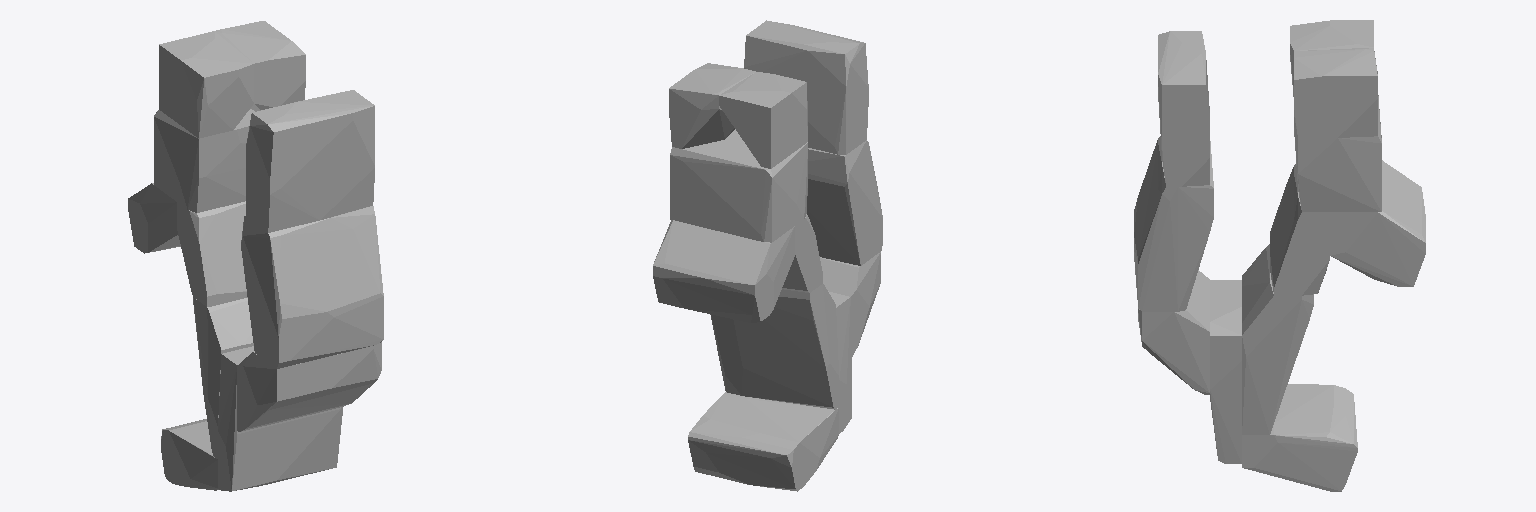
robot.urdf — root:
<robot name="root">
  <link name="link_endstop_holder_convex_piece_0">
    <inertial>
      <origin rpy="0 0 0" xyz="0 0 0"/>
      <mass value="-4.37E-06"/>
      <inertia ixx="-3.35E-09" ixy="1.06E-11" ixz="1.07E-11" iyy="-1.38E-09" iyz="-1.56E-09" izz="-2.54E-09"/>
    </inertial>
    <visual>
      <origin rpy="0 0 0" xyz="0 0 0"/>
      <geometry>
        <mesh filename="endstop_holder_convex_piece_0.obj" scale="1.0000E+00"/>
      </geometry>
      <material name="">
        <color rgba="7.50E-01 7.50E-01 7.50E-01 1"/>
      </material>
    </visual>
    <collision>
      <origin rpy="0 0 0" xyz="0 0 0"/>
      <geometry>
        <mesh filename="endstop_holder_convex_piece_0.obj" scale="1.0000E+00"/>
      </geometry>
    </collision>
  </link>
  <link name="link_endstop_holder_convex_piece_1">
    <inertial>
      <origin rpy="0 0 0" xyz="0 0 0"/>
      <mass value="-4.20E-06"/>
      <inertia ixx="-4.13E-09" ixy="-4.13E-11" ixz="-8.64E-11" iyy="-3.88E-09" iyz="-1.47E-09" izz="-7.99E-10"/>
    </inertial>
    <visual>
      <origin rpy="0 0 0" xyz="0 0 0"/>
      <geometry>
        <mesh filename="endstop_holder_convex_piece_1.obj" scale="1.0000E+00"/>
      </geometry>
      <material name="">
        <color rgba="7.50E-01 7.50E-01 7.50E-01 1"/>
      </material>
    </visual>
    <collision>
      <origin rpy="0 0 0" xyz="0 0 0"/>
      <geometry>
        <mesh filename="endstop_holder_convex_piece_1.obj" scale="1.0000E+00"/>
      </geometry>
    </collision>
  </link>
  <joint name="link_endstop_holder_convex_piece_1_joint" type="fixed">
    <origin rpy="0 0 0" xyz="0 0 0"/>
    <parent link="link_endstop_holder_convex_piece_0"/>
    <child link="link_endstop_holder_convex_piece_1"/>
  </joint>
  <link name="link_endstop_holder_convex_piece_2">
    <inertial>
      <origin rpy="0 0 0" xyz="0 0 0"/>
      <mass value="-7.66E-06"/>
      <inertia ixx="-5.49E-09" ixy="1.44E-10" ixz="-6.56E-11" iyy="-1.60E-09" iyz="1.41E-09" izz="-4.89E-09"/>
    </inertial>
    <visual>
      <origin rpy="0 0 0" xyz="0 0 0"/>
      <geometry>
        <mesh filename="endstop_holder_convex_piece_2.obj" scale="1.0000E+00"/>
      </geometry>
      <material name="">
        <color rgba="7.50E-01 7.50E-01 7.50E-01 1"/>
      </material>
    </visual>
    <collision>
      <origin rpy="0 0 0" xyz="0 0 0"/>
      <geometry>
        <mesh filename="endstop_holder_convex_piece_2.obj" scale="1.0000E+00"/>
      </geometry>
    </collision>
  </link>
  <joint name="link_endstop_holder_convex_piece_2_joint" type="fixed">
    <origin rpy="0 0 0" xyz="0 0 0"/>
    <parent link="link_endstop_holder_convex_piece_1"/>
    <child link="link_endstop_holder_convex_piece_2"/>
  </joint>
  <link name="link_endstop_holder_convex_piece_3">
    <inertial>
      <origin rpy="0 0 0" xyz="0 0 0"/>
      <mass value="-5.13E-06"/>
      <inertia ixx="-9.66E-09" ixy="1.53E-10" ixz="-2.89E-10" iyy="-7.70E-09" iyz="4.03E-09" izz="-2.63E-09"/>
    </inertial>
    <visual>
      <origin rpy="0 0 0" xyz="0 0 0"/>
      <geometry>
        <mesh filename="endstop_holder_convex_piece_3.obj" scale="1.0000E+00"/>
      </geometry>
      <material name="">
        <color rgba="7.50E-01 7.50E-01 7.50E-01 1"/>
      </material>
    </visual>
    <collision>
      <origin rpy="0 0 0" xyz="0 0 0"/>
      <geometry>
        <mesh filename="endstop_holder_convex_piece_3.obj" scale="1.0000E+00"/>
      </geometry>
    </collision>
  </link>
  <joint name="link_endstop_holder_convex_piece_3_joint" type="fixed">
    <origin rpy="0 0 0" xyz="0 0 0"/>
    <parent link="link_endstop_holder_convex_piece_2"/>
    <child link="link_endstop_holder_convex_piece_3"/>
  </joint>
  <link name="link_endstop_holder_convex_piece_4">
    <inertial>
      <origin rpy="0 0 0" xyz="0 0 0"/>
      <mass value="-5.01E-06"/>
      <inertia ixx="-9.98E-09" ixy="2.85E-11" ixz="-3.02E-10" iyy="-1.01E-08" iyz="9.43E-10" izz="-5.62E-10"/>
    </inertial>
    <visual>
      <origin rpy="0 0 0" xyz="0 0 0"/>
      <geometry>
        <mesh filename="endstop_holder_convex_piece_4.obj" scale="1.0000E+00"/>
      </geometry>
      <material name="">
        <color rgba="7.50E-01 7.50E-01 7.50E-01 1"/>
      </material>
    </visual>
    <collision>
      <origin rpy="0 0 0" xyz="0 0 0"/>
      <geometry>
        <mesh filename="endstop_holder_convex_piece_4.obj" scale="1.0000E+00"/>
      </geometry>
    </collision>
  </link>
  <joint name="link_endstop_holder_convex_piece_4_joint" type="fixed">
    <origin rpy="0 0 0" xyz="0 0 0"/>
    <parent link="link_endstop_holder_convex_piece_3"/>
    <child link="link_endstop_holder_convex_piece_4"/>
  </joint>
  <link name="link_endstop_holder_convex_piece_5">
    <inertial>
      <origin rpy="0 0 0" xyz="0 0 0"/>
      <mass value="-6.08E-06"/>
      <inertia ixx="-2.51E-09" ixy="-3.11E-11" ixz="5.84E-11" iyy="-2.90E-09" iyz="-5.13E-10" izz="-3.74E-10"/>
    </inertial>
    <visual>
      <origin rpy="0 0 0" xyz="0 0 0"/>
      <geometry>
        <mesh filename="endstop_holder_convex_piece_5.obj" scale="1.0000E+00"/>
      </geometry>
      <material name="">
        <color rgba="7.50E-01 7.50E-01 7.50E-01 1"/>
      </material>
    </visual>
    <collision>
      <origin rpy="0 0 0" xyz="0 0 0"/>
      <geometry>
        <mesh filename="endstop_holder_convex_piece_5.obj" scale="1.0000E+00"/>
      </geometry>
    </collision>
  </link>
  <joint name="link_endstop_holder_convex_piece_5_joint" type="fixed">
    <origin rpy="0 0 0" xyz="0 0 0"/>
    <parent link="link_endstop_holder_convex_piece_4"/>
    <child link="link_endstop_holder_convex_piece_5"/>
  </joint>
  <link name="link_endstop_holder_convex_piece_6">
    <inertial>
      <origin rpy="0 0 0" xyz="0 0 0"/>
      <mass value="-3.59E-06"/>
      <inertia ixx="-2.92E-10" ixy="-1.33E-11" ixz="1.41E-11" iyy="-4.58E-10" iyz="-2.22E-10" izz="-2.85E-10"/>
    </inertial>
    <visual>
      <origin rpy="0 0 0" xyz="0 0 0"/>
      <geometry>
        <mesh filename="endstop_holder_convex_piece_6.obj" scale="1.0000E+00"/>
      </geometry>
      <material name="">
        <color rgba="7.50E-01 7.50E-01 7.50E-01 1"/>
      </material>
    </visual>
    <collision>
      <origin rpy="0 0 0" xyz="0 0 0"/>
      <geometry>
        <mesh filename="endstop_holder_convex_piece_6.obj" scale="1.0000E+00"/>
      </geometry>
    </collision>
  </link>
  <joint name="link_endstop_holder_convex_piece_6_joint" type="fixed">
    <origin rpy="0 0 0" xyz="0 0 0"/>
    <parent link="link_endstop_holder_convex_piece_5"/>
    <child link="link_endstop_holder_convex_piece_6"/>
  </joint>
  <link name="link_endstop_holder_convex_piece_7">
    <inertial>
      <origin rpy="0 0 0" xyz="0 0 0"/>
      <mass value="-5.41E-06"/>
      <inertia ixx="-3.04E-09" ixy="3.98E-11" ixz="2.57E-11" iyy="-8.10E-10" iyz="-1.07E-09" izz="-2.93E-09"/>
    </inertial>
    <visual>
      <origin rpy="0 0 0" xyz="0 0 0"/>
      <geometry>
        <mesh filename="endstop_holder_convex_piece_7.obj" scale="1.0000E+00"/>
      </geometry>
      <material name="">
        <color rgba="7.50E-01 7.50E-01 7.50E-01 1"/>
      </material>
    </visual>
    <collision>
      <origin rpy="0 0 0" xyz="0 0 0"/>
      <geometry>
        <mesh filename="endstop_holder_convex_piece_7.obj" scale="1.0000E+00"/>
      </geometry>
    </collision>
  </link>
  <joint name="link_endstop_holder_convex_piece_7_joint" type="fixed">
    <origin rpy="0 0 0" xyz="0 0 0"/>
    <parent link="link_endstop_holder_convex_piece_6"/>
    <child link="link_endstop_holder_convex_piece_7"/>
  </joint>
  <link name="link_endstop_holder_convex_piece_8">
    <inertial>
      <origin rpy="0 0 0" xyz="0 0 0"/>
      <mass value="-6.67E-06"/>
      <inertia ixx="-6.12E-09" ixy="-2.31E-11" ixz="-1.67E-11" iyy="-5.35E-09" iyz="-2.46E-09" izz="-1.64E-09"/>
    </inertial>
    <visual>
      <origin rpy="0 0 0" xyz="0 0 0"/>
      <geometry>
        <mesh filename="endstop_holder_convex_piece_8.obj" scale="1.0000E+00"/>
      </geometry>
      <material name="">
        <color rgba="7.50E-01 7.50E-01 7.50E-01 1"/>
      </material>
    </visual>
    <collision>
      <origin rpy="0 0 0" xyz="0 0 0"/>
      <geometry>
        <mesh filename="endstop_holder_convex_piece_8.obj" scale="1.0000E+00"/>
      </geometry>
    </collision>
  </link>
  <joint name="link_endstop_holder_convex_piece_8_joint" type="fixed">
    <origin rpy="0 0 0" xyz="0 0 0"/>
    <parent link="link_endstop_holder_convex_piece_7"/>
    <child link="link_endstop_holder_convex_piece_8"/>
  </joint>
  <link name="link_endstop_holder_convex_piece_9">
    <inertial>
      <origin rpy="0 0 0" xyz="0 0 0"/>
      <mass value="-2.42E-06"/>
      <inertia ixx="-5.23E-09" ixy="1.86E-10" ixz="7.21E-10" iyy="-5.05E-09" iyz="-1.30E-09" izz="-4.77E-10"/>
    </inertial>
    <visual>
      <origin rpy="0 0 0" xyz="0 0 0"/>
      <geometry>
        <mesh filename="endstop_holder_convex_piece_9.obj" scale="1.0000E+00"/>
      </geometry>
      <material name="">
        <color rgba="7.50E-01 7.50E-01 7.50E-01 1"/>
      </material>
    </visual>
    <collision>
      <origin rpy="0 0 0" xyz="0 0 0"/>
      <geometry>
        <mesh filename="endstop_holder_convex_piece_9.obj" scale="1.0000E+00"/>
      </geometry>
    </collision>
  </link>
  <joint name="link_endstop_holder_convex_piece_9_joint" type="fixed">
    <origin rpy="0 0 0" xyz="0 0 0"/>
    <parent link="link_endstop_holder_convex_piece_8"/>
    <child link="link_endstop_holder_convex_piece_9"/>
  </joint>
  <link name="link_endstop_holder_convex_piece_10">
    <inertial>
      <origin rpy="0 0 0" xyz="0 0 0"/>
      <mass value="-2.29E-06"/>
      <inertia ixx="-4.90E-09" ixy="-2.39E-10" ixz="-8.40E-10" iyy="-4.74E-09" iyz="-1.28E-09" izz="-5.41E-10"/>
    </inertial>
    <visual>
      <origin rpy="0 0 0" xyz="0 0 0"/>
      <geometry>
        <mesh filename="endstop_holder_convex_piece_10.obj" scale="1.0000E+00"/>
      </geometry>
      <material name="">
        <color rgba="7.50E-01 7.50E-01 7.50E-01 1"/>
      </material>
    </visual>
    <collision>
      <origin rpy="0 0 0" xyz="0 0 0"/>
      <geometry>
        <mesh filename="endstop_holder_convex_piece_10.obj" scale="1.0000E+00"/>
      </geometry>
    </collision>
  </link>
  <joint name="link_endstop_holder_convex_piece_10_joint" type="fixed">
    <origin rpy="0 0 0" xyz="0 0 0"/>
    <parent link="link_endstop_holder_convex_piece_9"/>
    <child link="link_endstop_holder_convex_piece_10"/>
  </joint>
</robot>

--- Facts derived from the render (not from the file) ---
Views: 3 orthographic renders of the robot side by side, from view 1: azimuth 30°, elevation 25°; view 2: azimuth 150°, elevation 25°; view 3: azimuth 270°, elevation 25°.
Model root with 11 links and 10 joints (10 fixed), rooted at link_endstop_holder_convex_piece_0, posed all joints at 0.
Visible links, largest first — view 1: link_endstop_holder_convex_piece_2, link_endstop_holder_convex_piece_3, link_endstop_holder_convex_piece_1, link_endstop_holder_convex_piece_9, link_endstop_holder_convex_piece_0, link_endstop_holder_convex_piece_8, link_endstop_holder_convex_piece_6, link_endstop_holder_convex_piece_10, link_endstop_holder_convex_piece_5, link_endstop_holder_convex_piece_4, link_endstop_holder_convex_piece_7; view 2: link_endstop_holder_convex_piece_5, link_endstop_holder_convex_piece_8, link_endstop_holder_convex_piece_4, link_endstop_holder_convex_piece_7, link_endstop_holder_convex_piece_3, link_endstop_holder_convex_piece_2, link_endstop_holder_convex_piece_9, link_endstop_holder_convex_piece_10, link_endstop_holder_convex_piece_0, link_endstop_holder_convex_piece_6, link_endstop_holder_convex_piece_1; view 3: link_endstop_holder_convex_piece_2, link_endstop_holder_convex_piece_4, link_endstop_holder_convex_piece_5, link_endstop_holder_convex_piece_7, link_endstop_holder_convex_piece_3, link_endstop_holder_convex_piece_10, link_endstop_holder_convex_piece_8, link_endstop_holder_convex_piece_1, link_endstop_holder_convex_piece_6, link_endstop_holder_convex_piece_0, link_endstop_holder_convex_piece_9.
Boxes of the visible links, <box> form: link_endstop_holder_convex_piece_2: <box>241,206,383,368</box>; link_endstop_holder_convex_piece_3: <box>246,90,374,232</box>; link_endstop_holder_convex_piece_1: <box>218,346,342,491</box>; link_endstop_holder_convex_piece_9: <box>159,31,253,138</box>; link_endstop_holder_convex_piece_0: <box>237,342,381,431</box>; link_endstop_holder_convex_piece_8: <box>154,109,254,212</box>; link_endstop_holder_convex_piece_6: <box>177,201,247,306</box>; link_endstop_holder_convex_piece_10: <box>215,21,305,111</box>; link_endstop_holder_convex_piece_5: <box>193,297,253,458</box>; link_endstop_holder_convex_piece_4: <box>161,419,218,490</box>; link_endstop_holder_convex_piece_7: <box>128,183,180,253</box>; link_endstop_holder_convex_piece_5: <box>710,284,838,409</box>; link_endstop_holder_convex_piece_8: <box>670,129,807,242</box>; link_endstop_holder_convex_piece_4: <box>688,392,838,491</box>; link_endstop_holder_convex_piece_7: <box>653,220,794,322</box>; link_endstop_holder_convex_piece_3: <box>744,20,868,154</box>; link_endstop_holder_convex_piece_2: <box>807,140,882,265</box>; link_endstop_holder_convex_piece_9: <box>719,72,807,168</box>; link_endstop_holder_convex_piece_10: <box>669,63,755,148</box>; link_endstop_holder_convex_piece_0: <box>820,252,880,356</box>; link_endstop_holder_convex_piece_6: <box>782,214,822,292</box>; link_endstop_holder_convex_piece_1: <box>828,291,851,433</box>; link_endstop_holder_convex_piece_2: <box>1134,136,1213,311</box>; link_endstop_holder_convex_piece_4: <box>1242,384,1357,491</box>; link_endstop_holder_convex_piece_5: <box>1242,244,1313,434</box>; link_endstop_holder_convex_piece_7: <box>1330,160,1425,286</box>; link_endstop_holder_convex_piece_3: <box>1158,31,1209,186</box>; link_endstop_holder_convex_piece_10: <box>1294,48,1377,137</box>; link_endstop_holder_convex_piece_8: <box>1294,95,1381,211</box>; link_endstop_holder_convex_piece_1: <box>1210,280,1241,463</box>; link_endstop_holder_convex_piece_6: <box>1270,164,1329,295</box>; link_endstop_holder_convex_piece_0: <box>1138,270,1209,394</box>; link_endstop_holder_convex_piece_9: <box>1290,20,1373,96</box>.
Size in the robot's own frame: 0.0313 by 0.0653 by 0.1047 metres.
Meshes: 11 distinct files referenced, 11 mesh visuals loaded (11 OBJ).